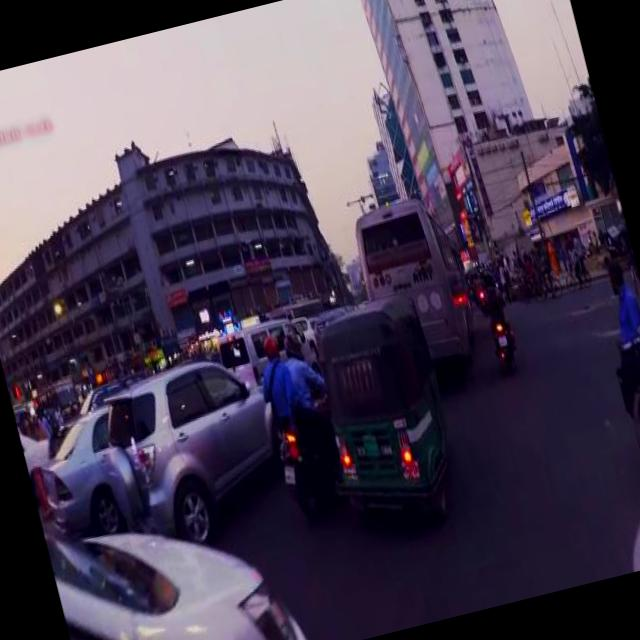bus: (348, 188, 480, 370), (32, 372, 82, 416)
car: (85, 341, 298, 558), (28, 398, 138, 540)
motorcycle: (302, 286, 468, 528), (268, 391, 356, 523), (482, 285, 520, 366)
truck: (41, 459, 314, 640), (214, 310, 314, 390)
